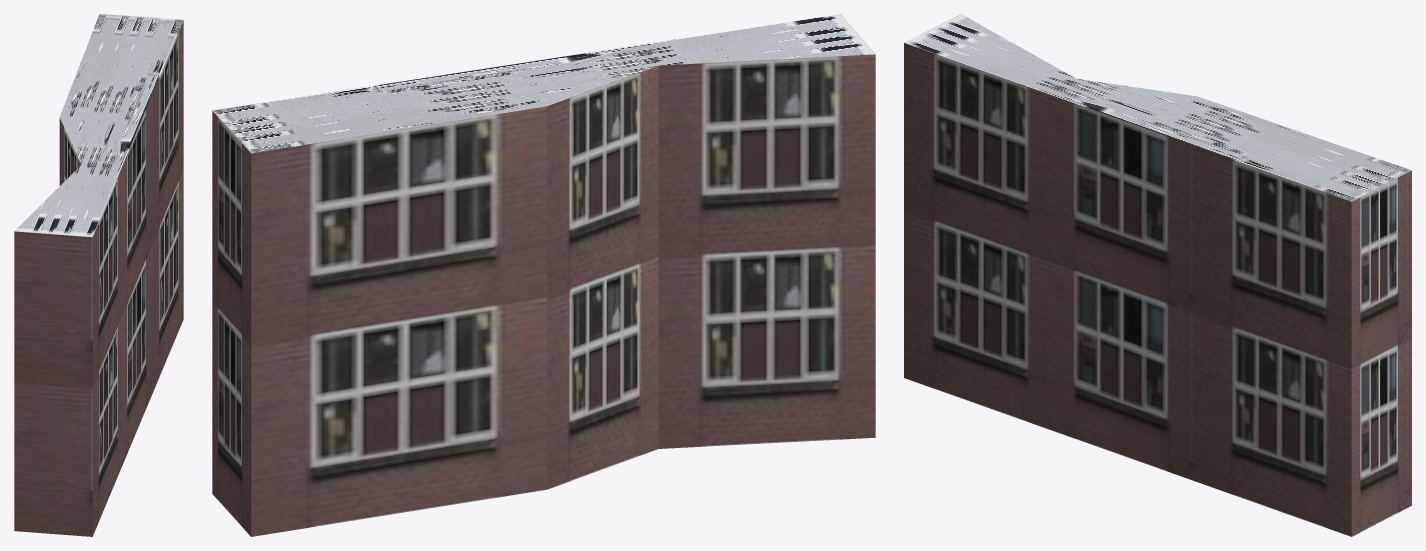
The model's file is ResTex__5035.fbx.
3 renders of one model, left to right at view 1: azimuth 30°, elevation 25°; view 2: azimuth 150°, elevation 25°; view 3: azimuth 270°, elevation 25°, orthographic. The views are drawn at different scales.
Parts seen in each view (by area): view 1: CityEngineMaterial_12_m, CityEngineMaterial_m; view 2: CityEngineMaterial_12_m, CityEngineMaterial_m; view 3: CityEngineMaterial_12_m, CityEngineMaterial_m.
Boxes of the visible parts, x1,y1,x2,y2 form: CityEngineMaterial_12_m: (14, 20, 183, 536); CityEngineMaterial_m: (15, 14, 183, 237); CityEngineMaterial_12_m: (212, 54, 875, 536); CityEngineMaterial_m: (212, 14, 874, 153); CityEngineMaterial_12_m: (904, 43, 1411, 536); CityEngineMaterial_m: (904, 14, 1411, 201).
Size of the model in its own units: 7.21 by 6 by 8.24.
2 materials, 2 textured.
